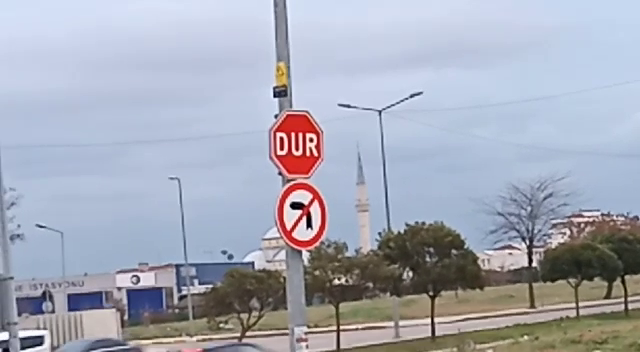no_left: (272, 175, 331, 254)
stop: (265, 108, 327, 181)
